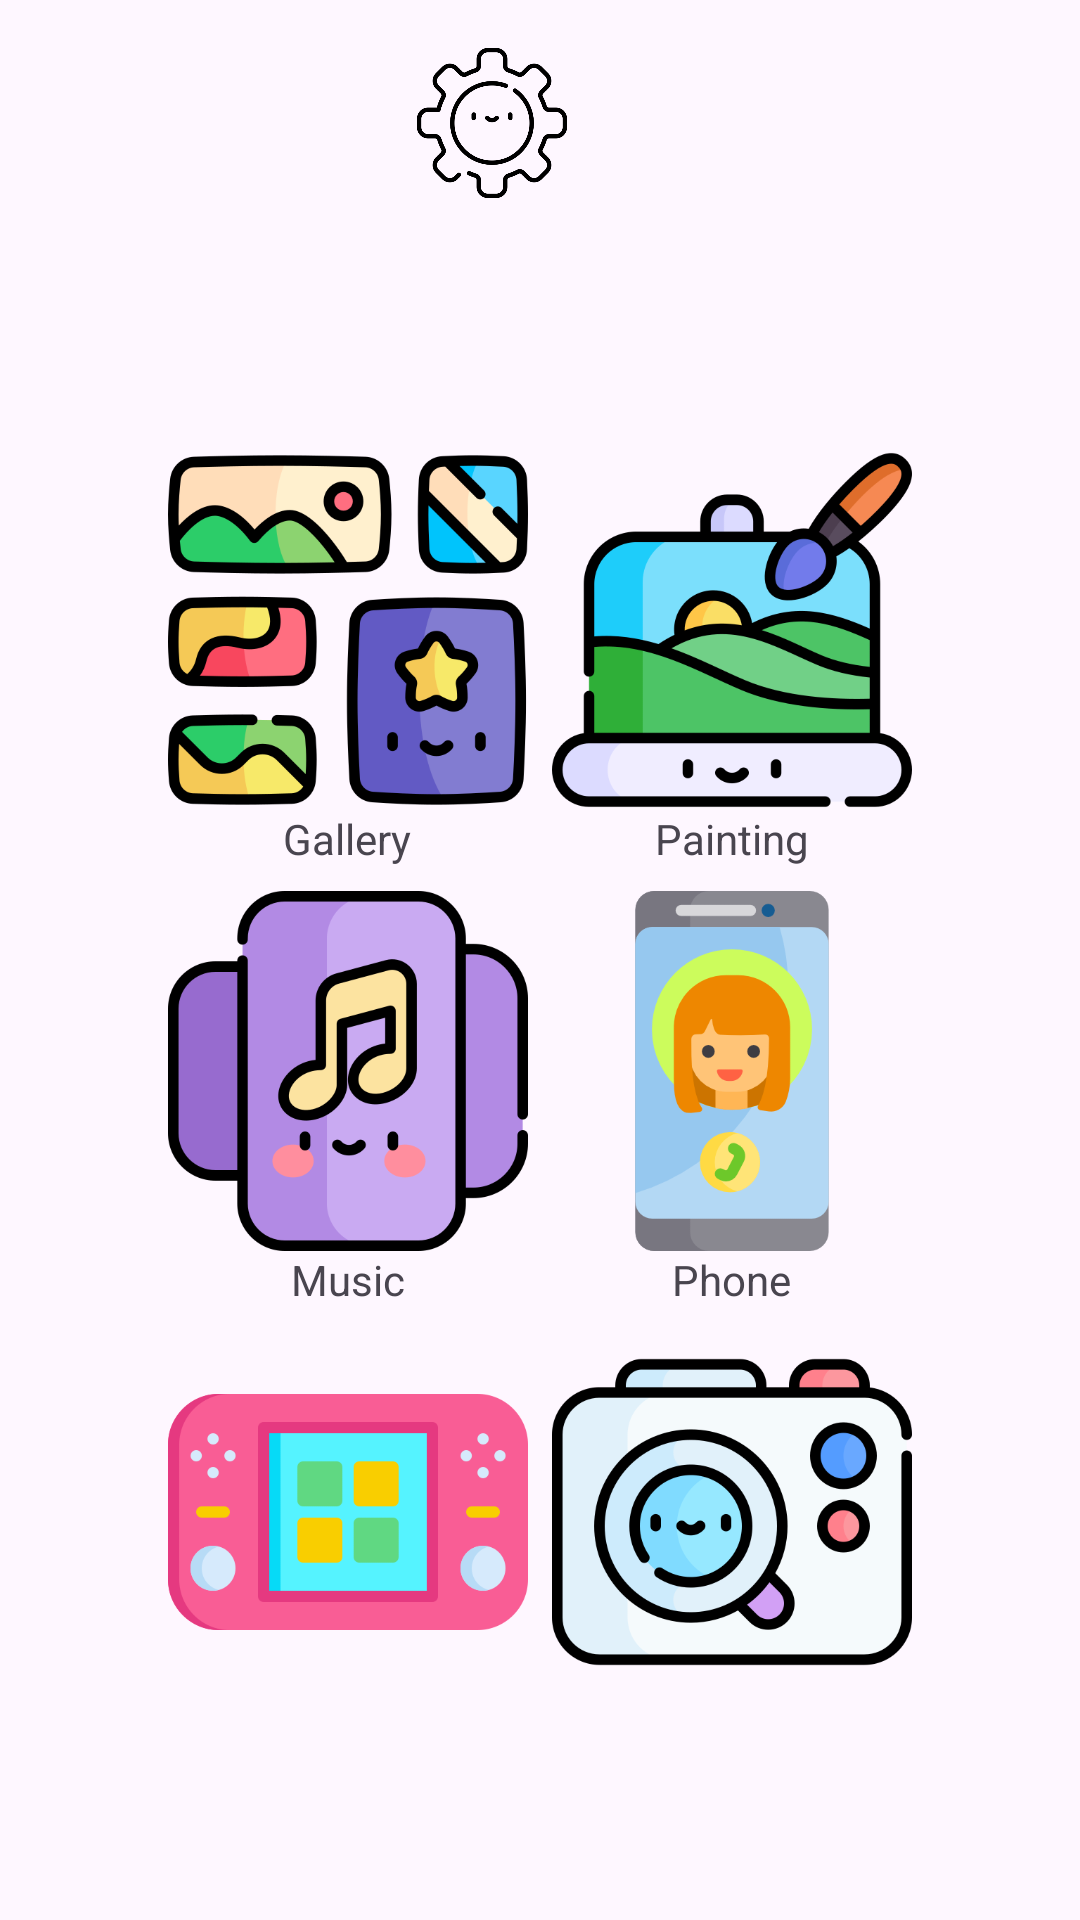

Icons on this 1080 x 1920 Android screen, each with the point to tap as [x,y]:
settings: [492,123]
